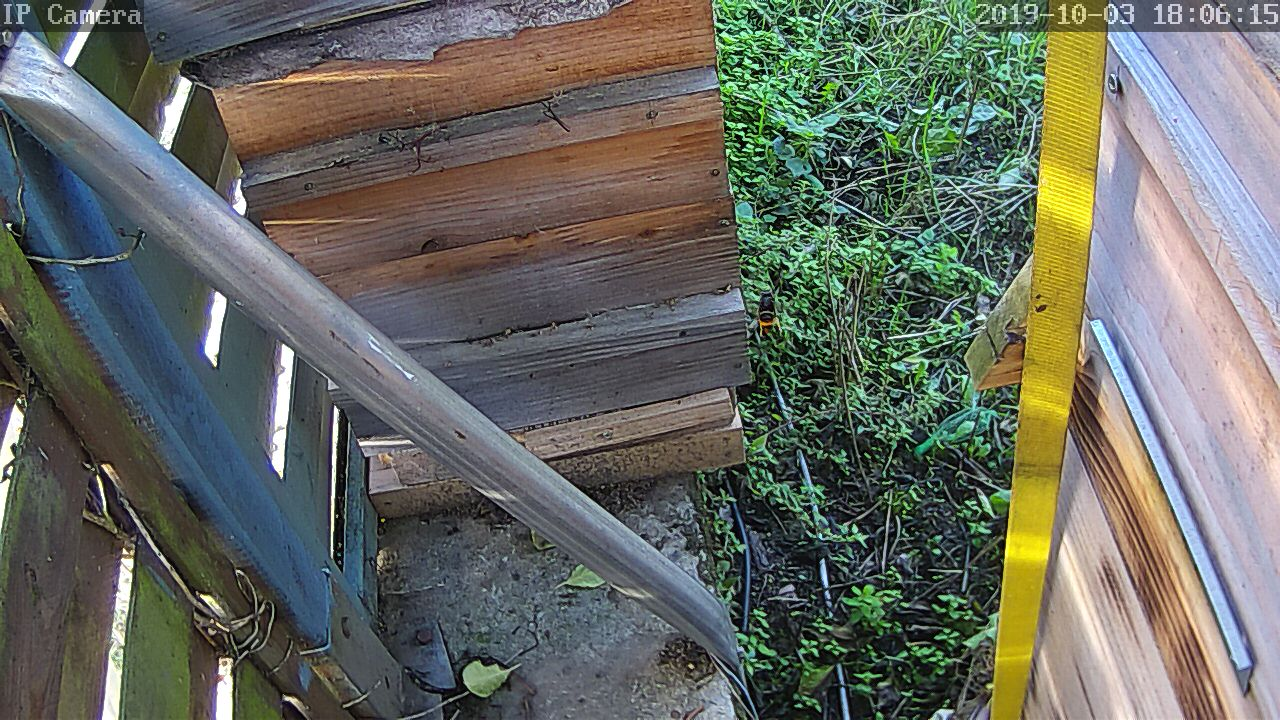hornet: (749, 287, 783, 340)
